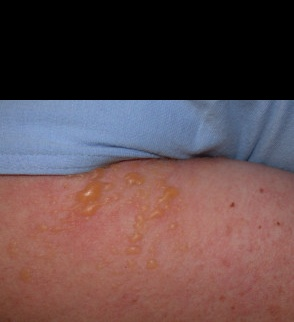SJS-TEN: (34, 143, 196, 284)
